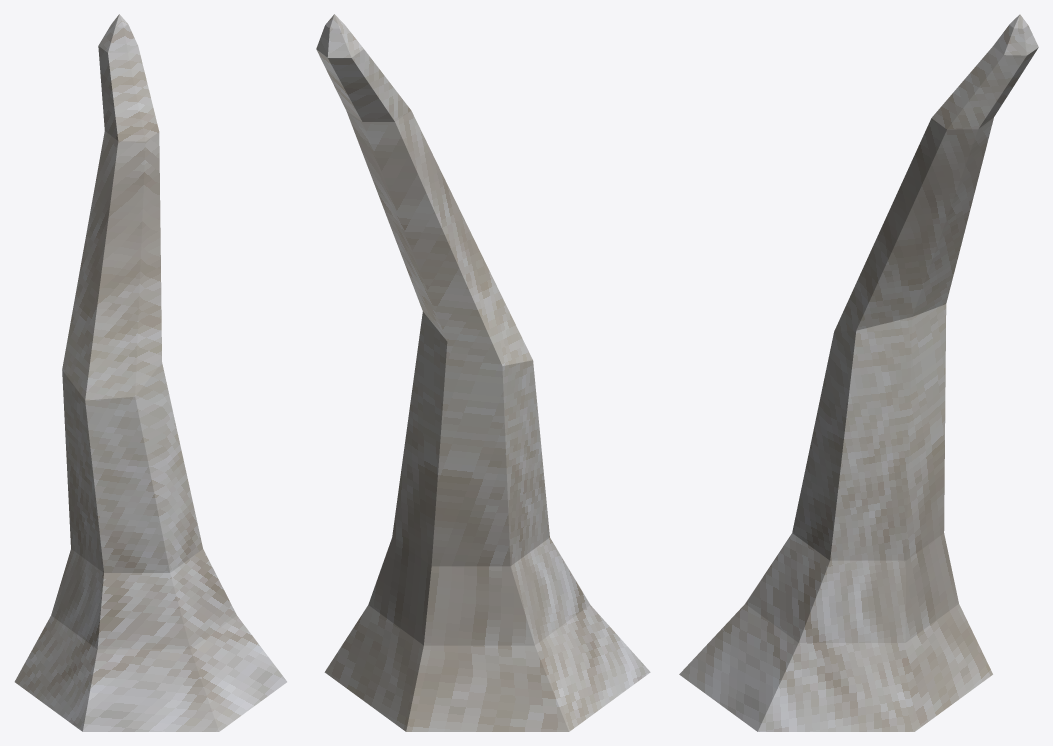
Rendered from Mushroom_Stem_B1.fbx.
3 renders of one model, left to right at view 1: azimuth 30°, elevation 25°; view 2: azimuth 150°, elevation 25°; view 3: azimuth 270°, elevation 25°, orthographic. The views are drawn at different scales.
Visible parts, largest first — view 1: Mushroom_Stem_B; view 2: Mushroom_Stem_B; view 3: Mushroom_Stem_B.
Boxes of the visible parts, x1,y1,x2,y2 form: Mushroom_Stem_B: [14, 14, 286, 731]; Mushroom_Stem_B: [316, 14, 650, 731]; Mushroom_Stem_B: [679, 14, 1038, 731].
Bounding box in the file's own units: 1.01 × 2.81 × 1.33.
